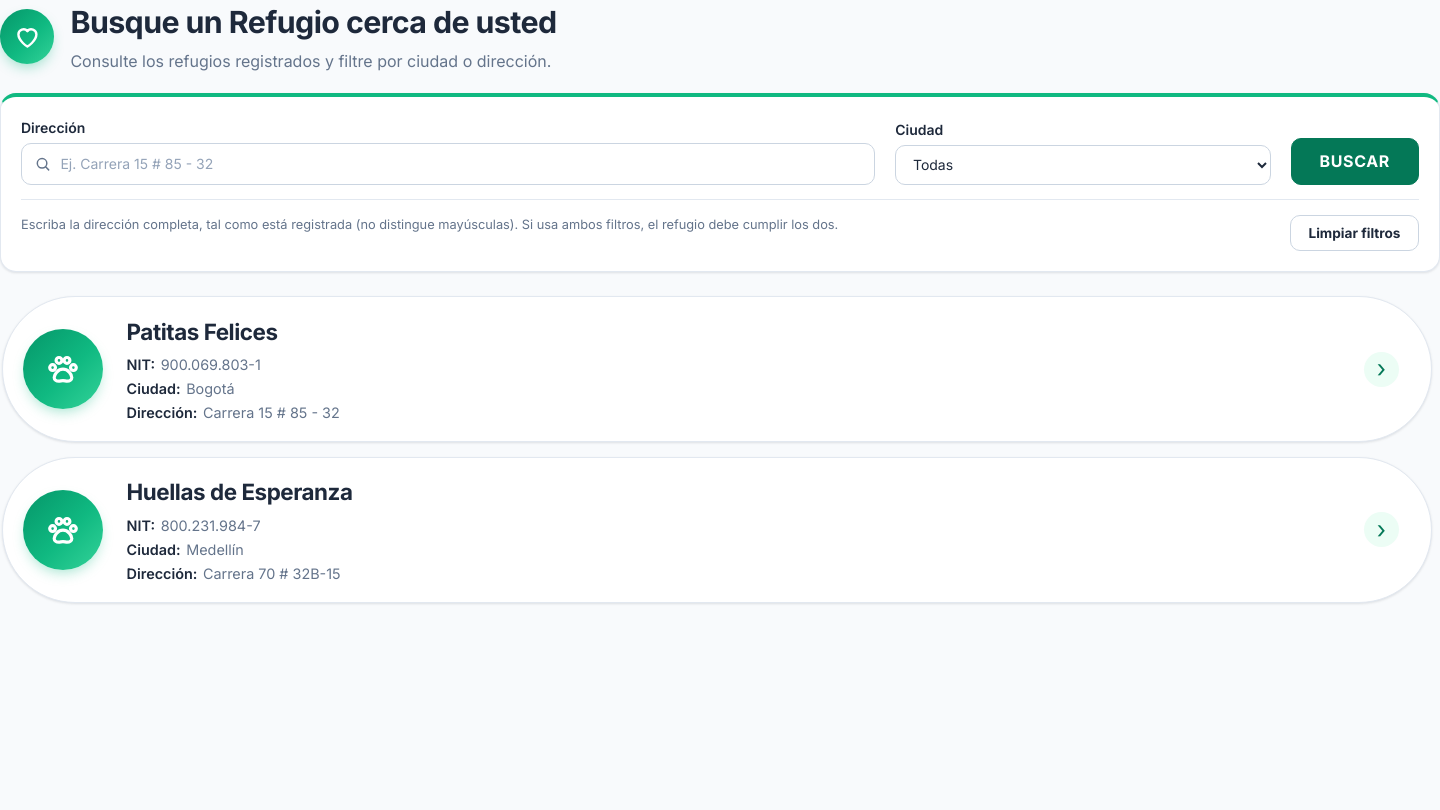
Scenario: ShelterListPage › combines the city and location filters when searching
The image size is (1440, 810).
Select "Medellín" in the dropdown labelled "Ciudad" at coordinates (1083, 165), box [895,145,1271,185]
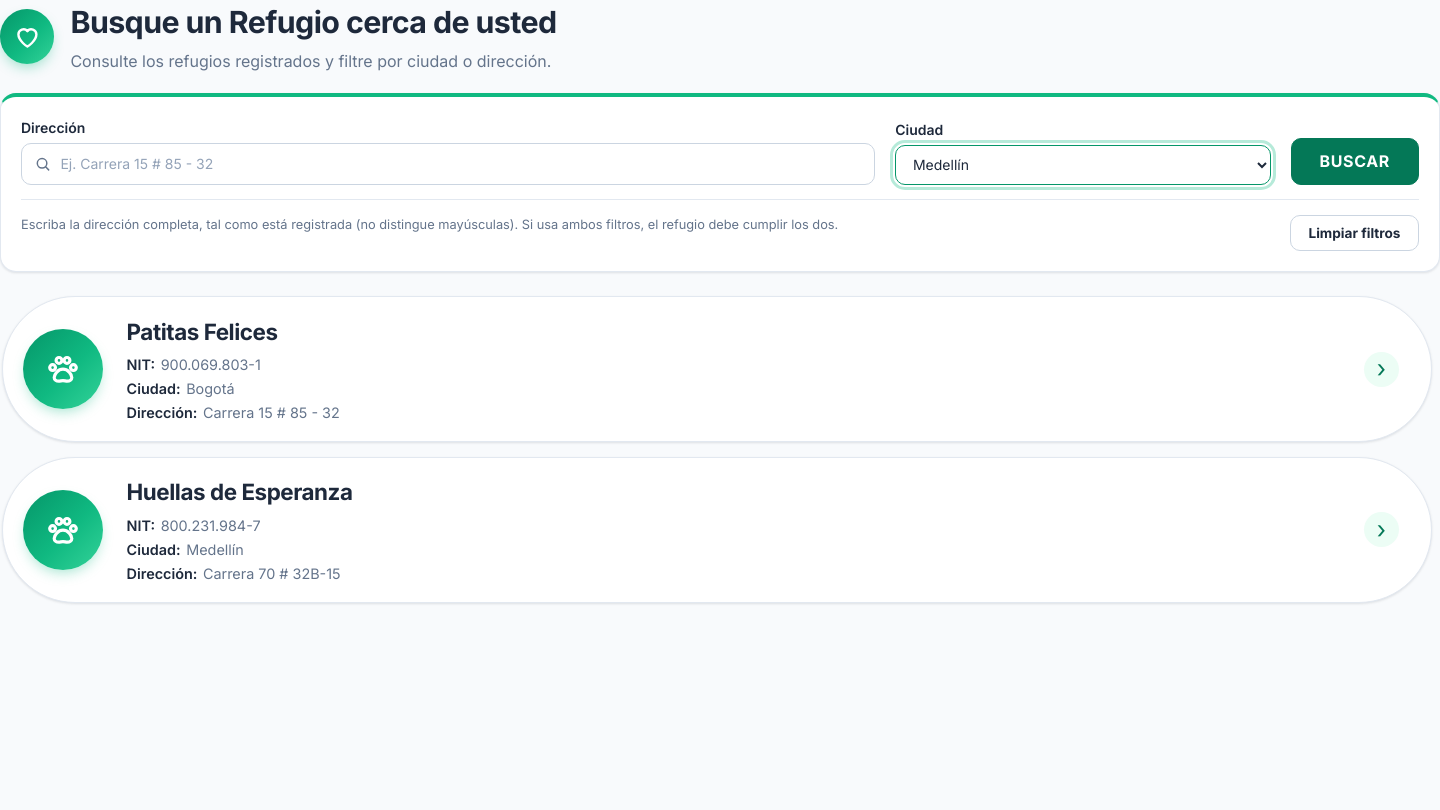
Type "Carrera 70 # 32B-15" into the field labelled "Dirección" at coordinates (448, 164), box [21,143,875,185]
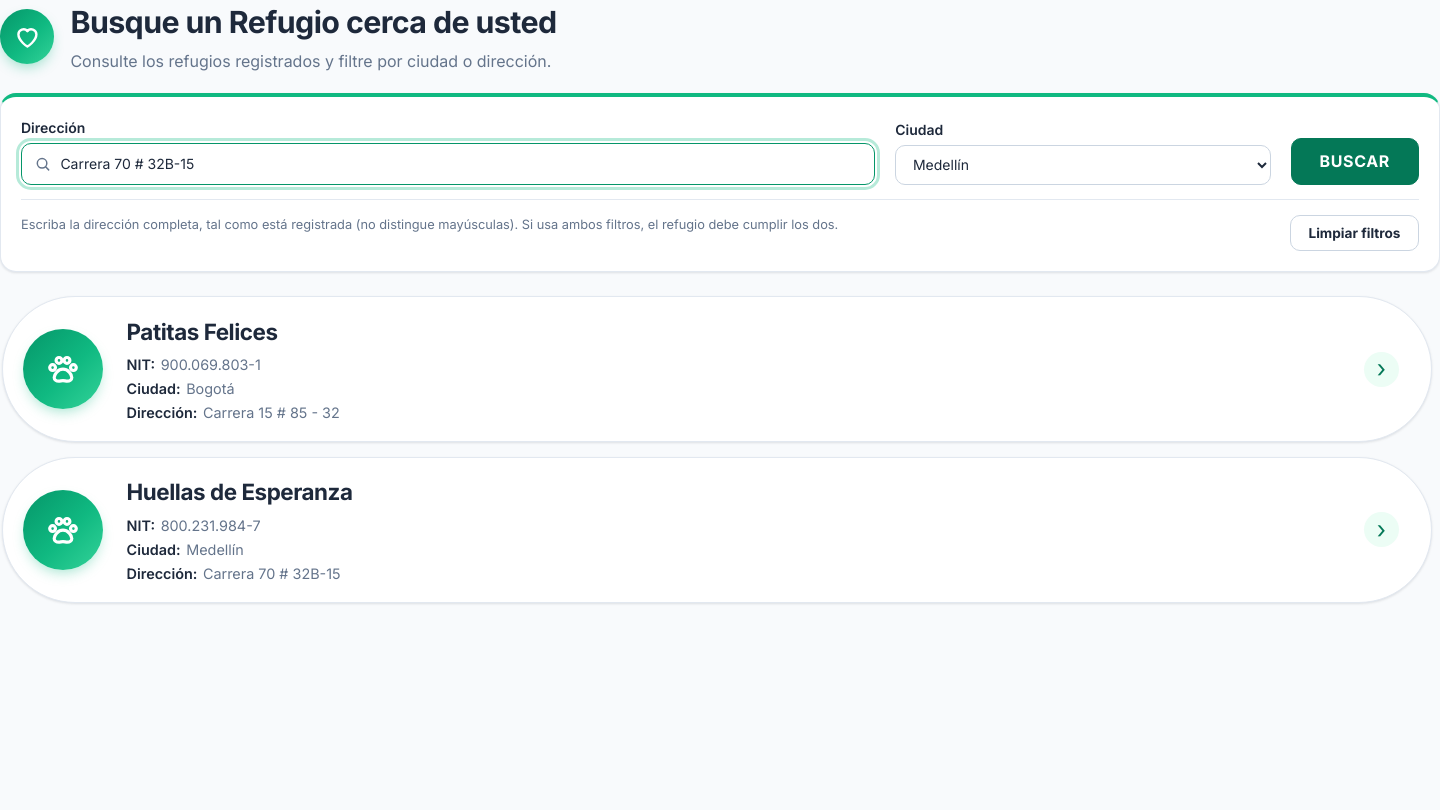
Click the button "Buscar" at coordinates (1355, 161), box [1290,138,1419,185]
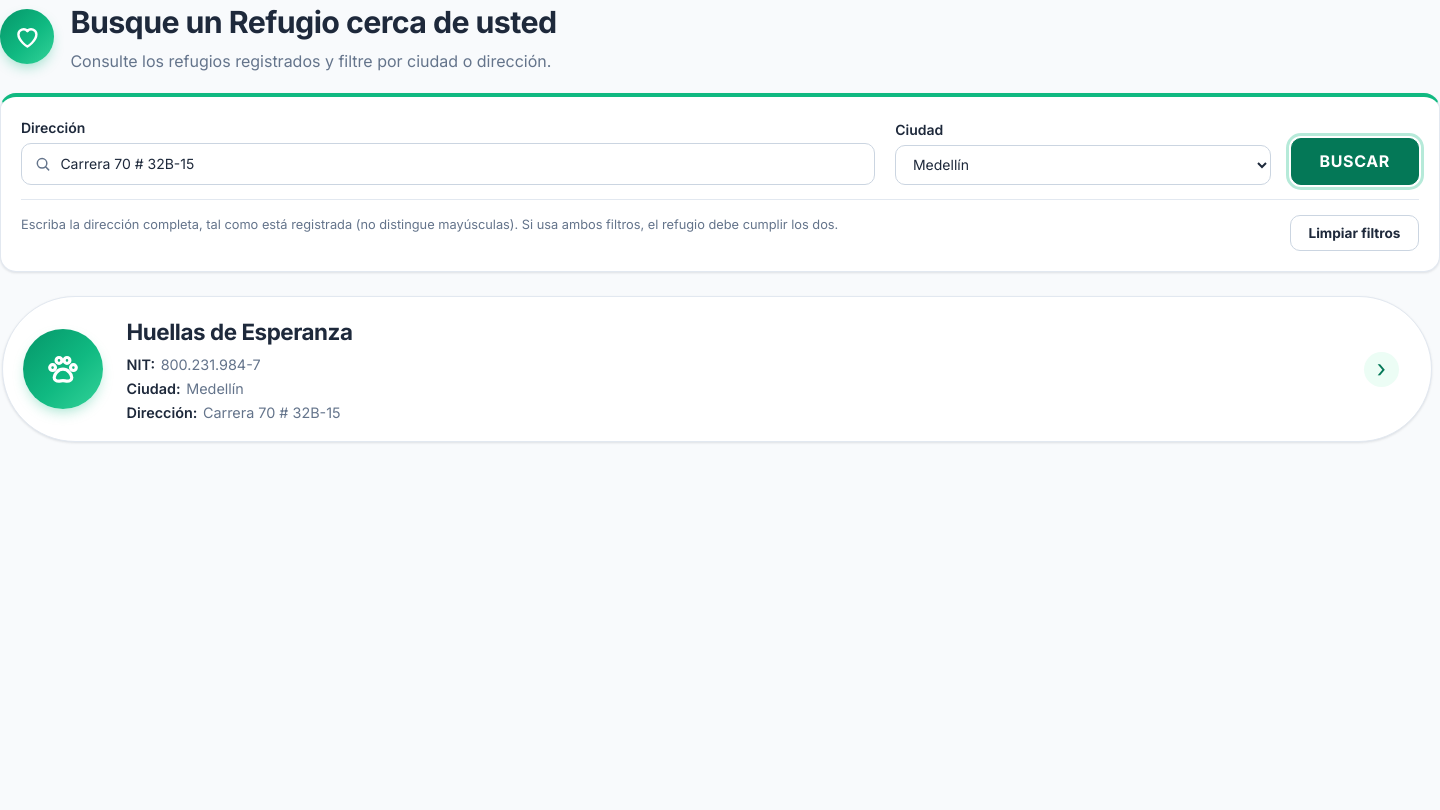
Expected: the link "Huellas de Esperanza" is shown, [127,318,353,345]
Expected: the number of list items is 1, [2,296,1432,442]
Expected: the link "Patitas Felices" is gone
